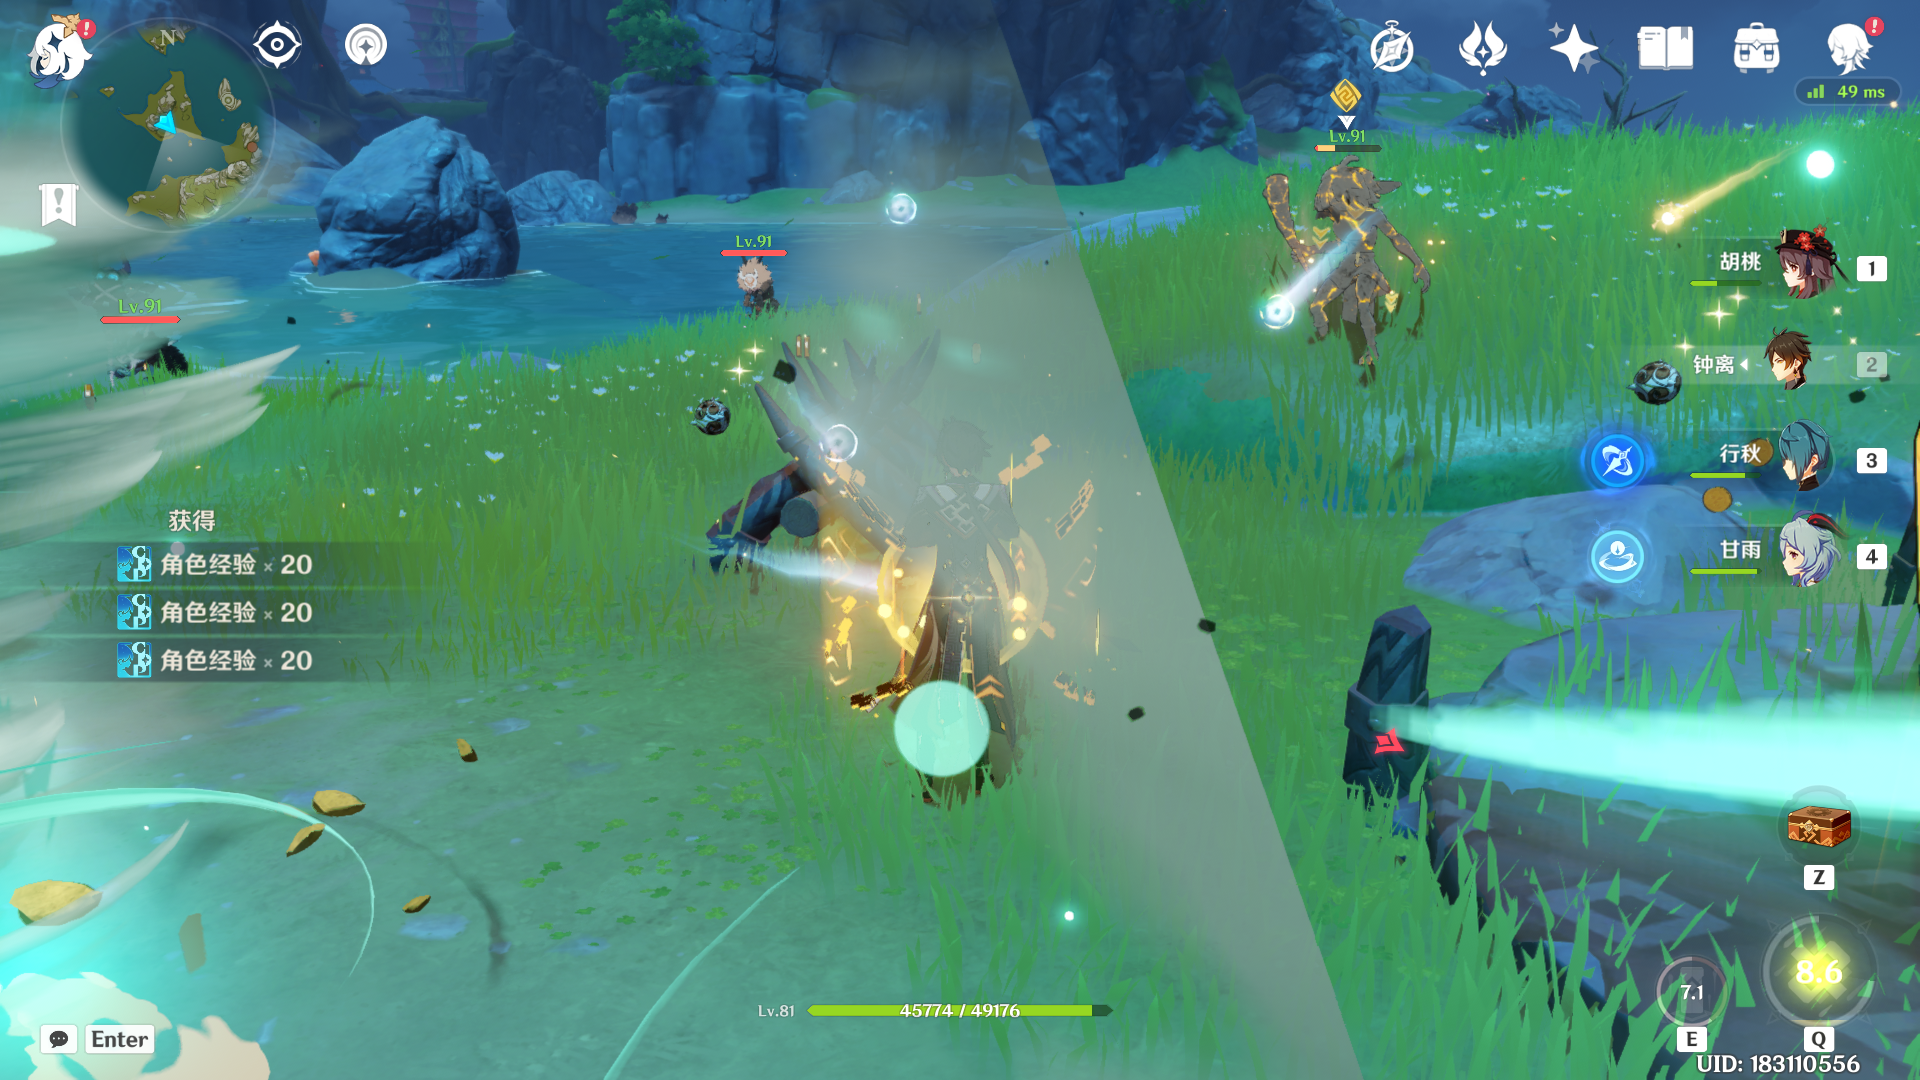character: (858, 386, 1069, 810)
hili: (723, 245, 815, 349)
